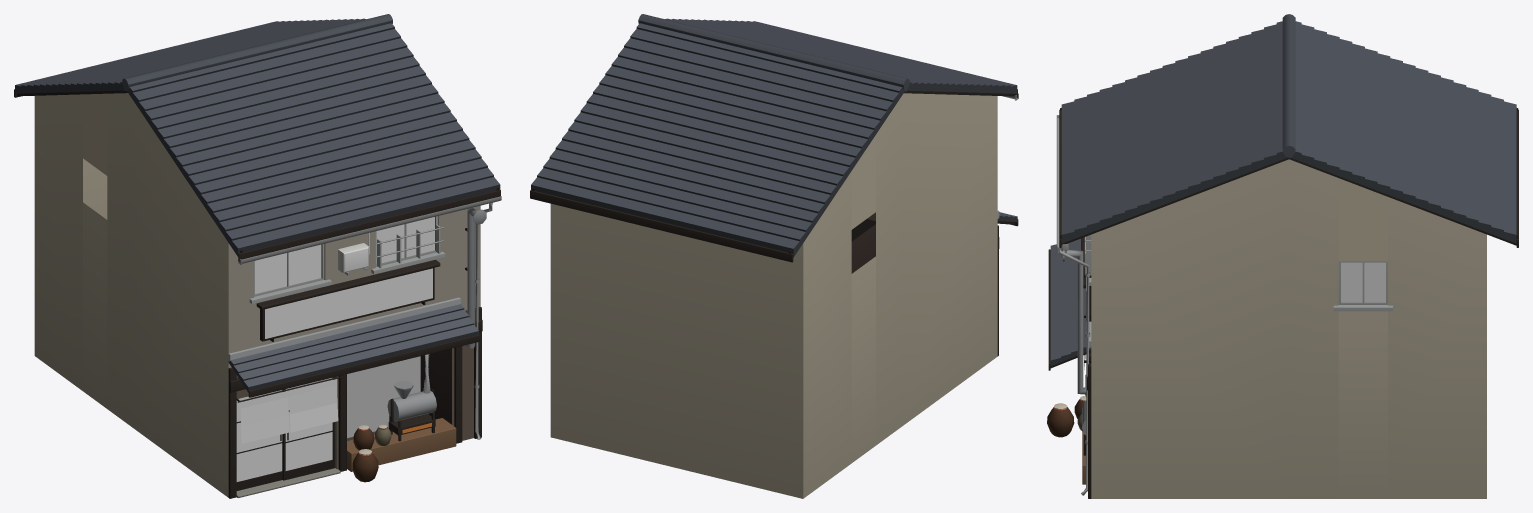
File: ShopTeaKM.fbx
3 renders of one model, left to right at view 1: azimuth 30°, elevation 25°; view 2: azimuth 150°, elevation 25°; view 3: azimuth 270°, elevation 25°, orthographic.
Visible parts, largest first — view 1: ShopTeaKM; view 2: ShopTeaKM; view 3: ShopTeaKM.
Boxes of the visible parts, bbox=[...] form: ShopTeaKM: bbox=[14, 14, 501, 498]; ShopTeaKM: bbox=[530, 14, 1018, 498]; ShopTeaKM: bbox=[1047, 14, 1518, 498].
Size of the model in its own units: 6.3 by 7.95 by 9.54.
